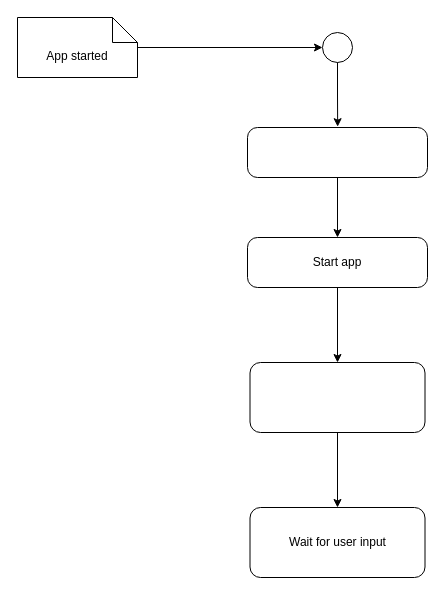
This 445x595 diagram has some shape labels left out. Here are the shapes that lost their labels. From the top down, the box of each, then its label:
(246, 126, 428, 178): Run migrations
(249, 362, 425, 432): Start rabbit
